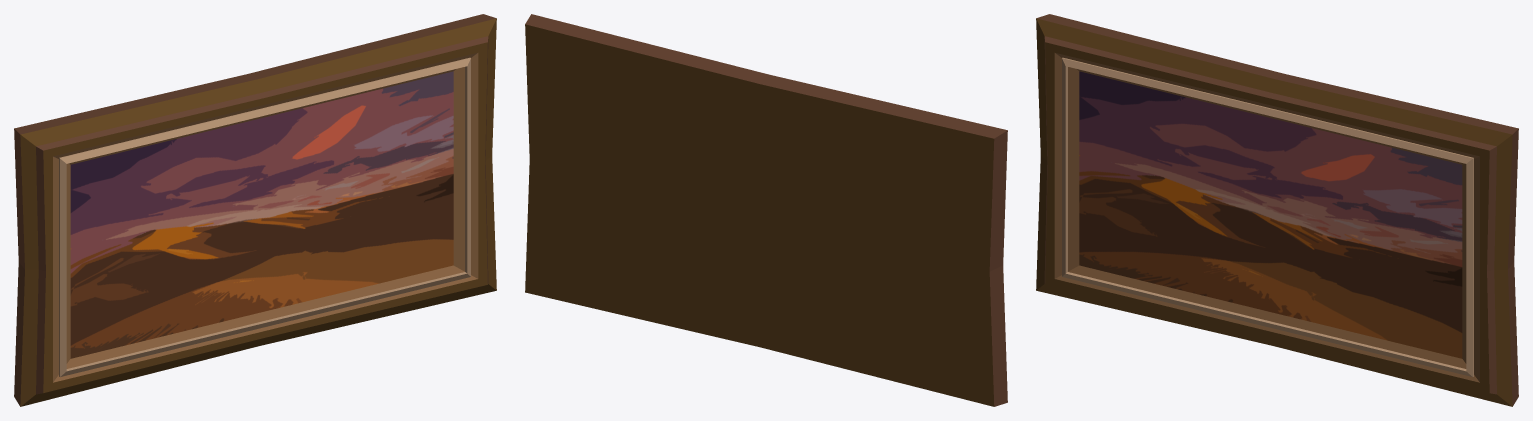
The model's file is painting_2.glb.
3 views of the same model, side by side, from view 1: azimuth 30°, elevation 25°; view 2: azimuth 150°, elevation 25°; view 3: azimuth 330°, elevation 25° (orthographic).
Parts seen in each view (by area): view 1: Painting 2; view 2: Painting 2; view 3: Painting 2.
Part boxes in pixels (x1=…): Painting 2: x1=14, y1=14, x2=496, y2=406; Painting 2: x1=525, y1=14, x2=1007, y2=406; Painting 2: x1=1036, y1=14, x2=1518, y2=406.
Size of the model in its own units: 0.9229 by 0.5042 by 0.0616.
2 materials, 2 textured.
